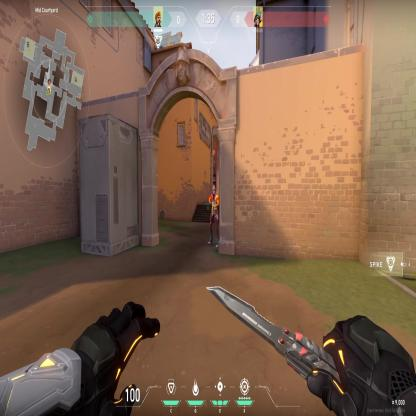enemy: (207, 183, 220, 252)
